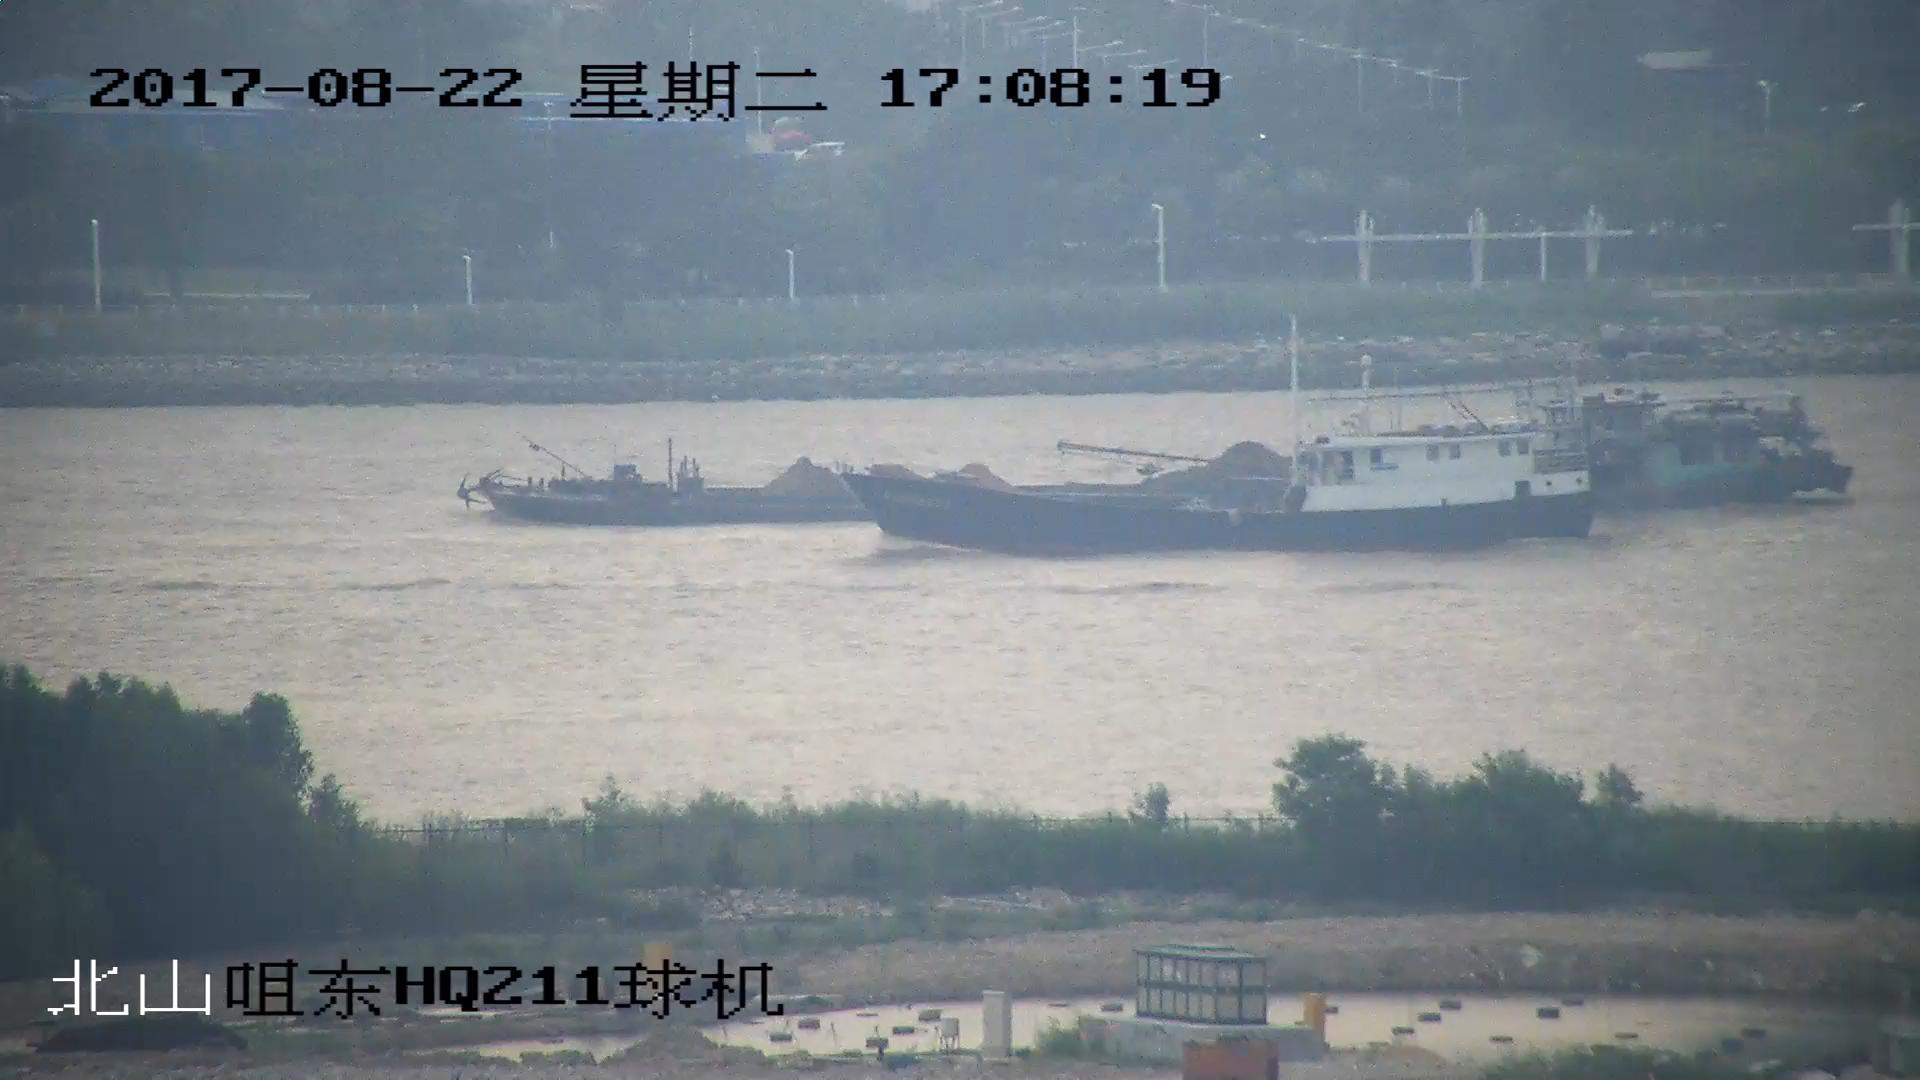Ship: (464, 386, 1854, 524), (847, 394, 1600, 555)
